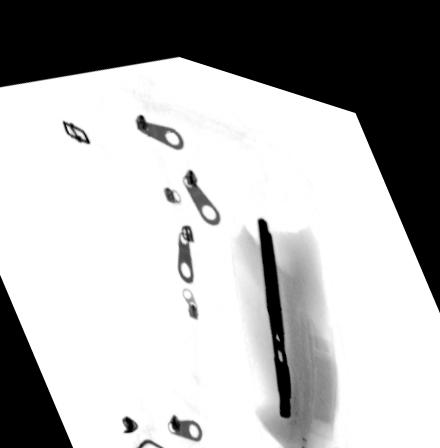Pliers: (256, 200, 291, 401)
